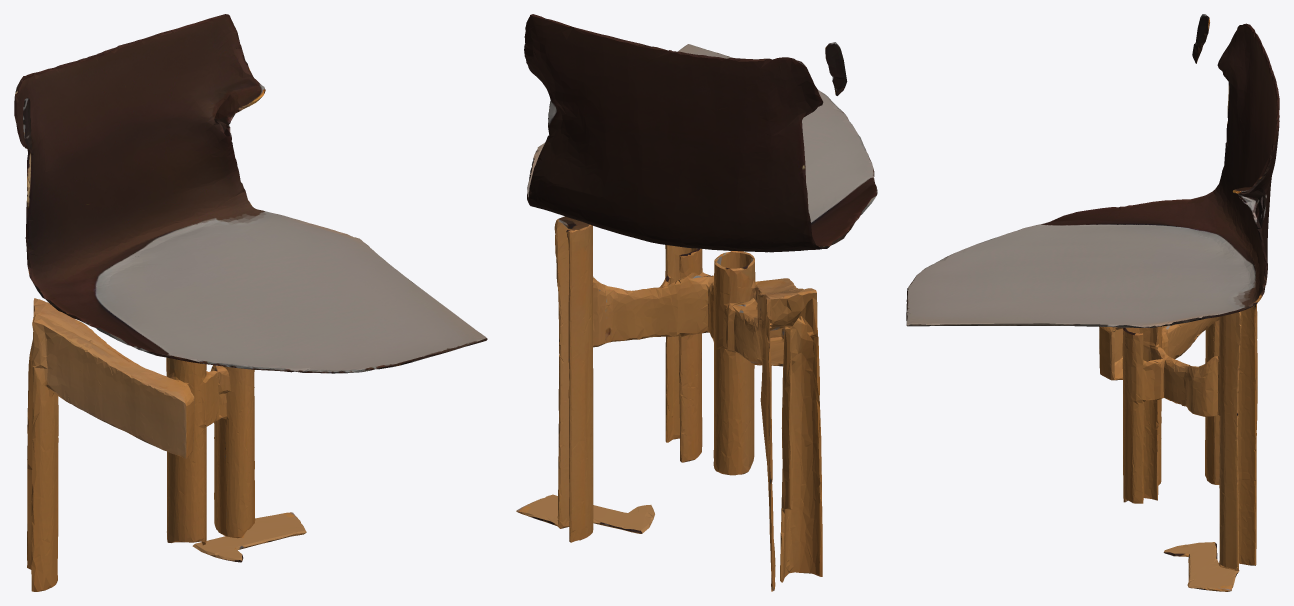
Rendered from hunyuan3d_textured.obj.
The picture shows the model from 3 angles, left to right: view 1: azimuth 30°, elevation 25°; view 2: azimuth 150°, elevation 25°; view 3: azimuth 270°, elevation 25°; orthographic projection. The views are drawn at different scales.
Parts seen in each view (by area): view 1: hunyuan3d_textured; view 2: hunyuan3d_textured; view 3: hunyuan3d_textured.
Boxes of the visible parts, x1,y1,x2,y2 form: hunyuan3d_textured: (14, 14, 487, 591); hunyuan3d_textured: (516, 14, 877, 591); hunyuan3d_textured: (906, 14, 1279, 591).
Size of the model in its own units: 1.31 by 2 by 1.48.
Materials: 1 (1 with a texture image).
